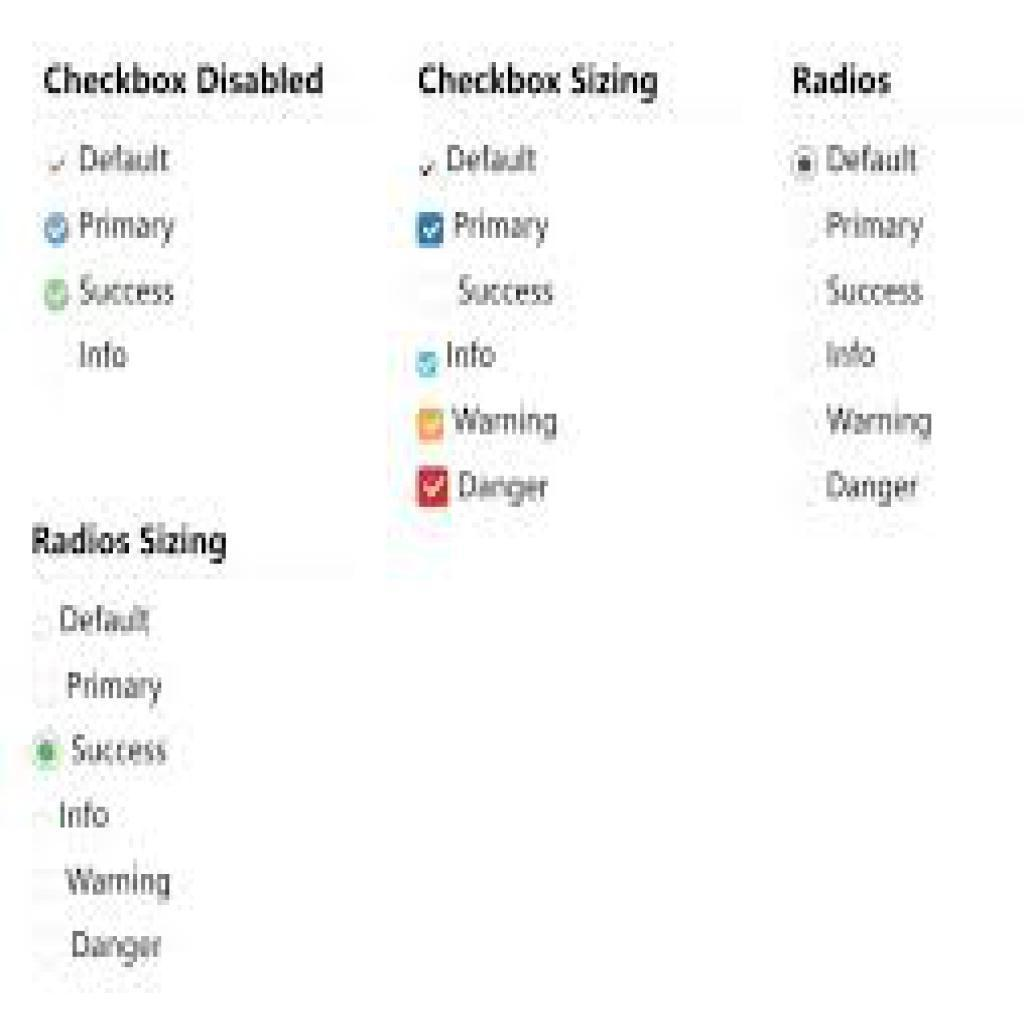checkbox: (415, 210, 447, 251), (420, 469, 452, 508), (417, 407, 448, 444), (43, 214, 73, 249), (45, 280, 73, 313), (44, 149, 75, 176), (415, 154, 442, 185), (417, 351, 440, 380)
label: (38, 58, 332, 104), (415, 58, 663, 109), (31, 521, 232, 569), (825, 398, 936, 447), (65, 864, 175, 910), (824, 268, 931, 313), (451, 465, 554, 511), (452, 402, 560, 445), (790, 60, 906, 100), (822, 138, 928, 181), (451, 207, 554, 250), (822, 465, 922, 509), (824, 208, 930, 248), (71, 927, 167, 969), (60, 600, 158, 641), (80, 271, 180, 311), (78, 208, 180, 247), (458, 272, 559, 311), (74, 731, 170, 772), (444, 140, 542, 179), (68, 671, 165, 708), (78, 142, 174, 177), (445, 337, 503, 373), (822, 337, 881, 372), (78, 334, 129, 373), (58, 797, 112, 830)
radio: (26, 725, 65, 776), (791, 147, 821, 183)
